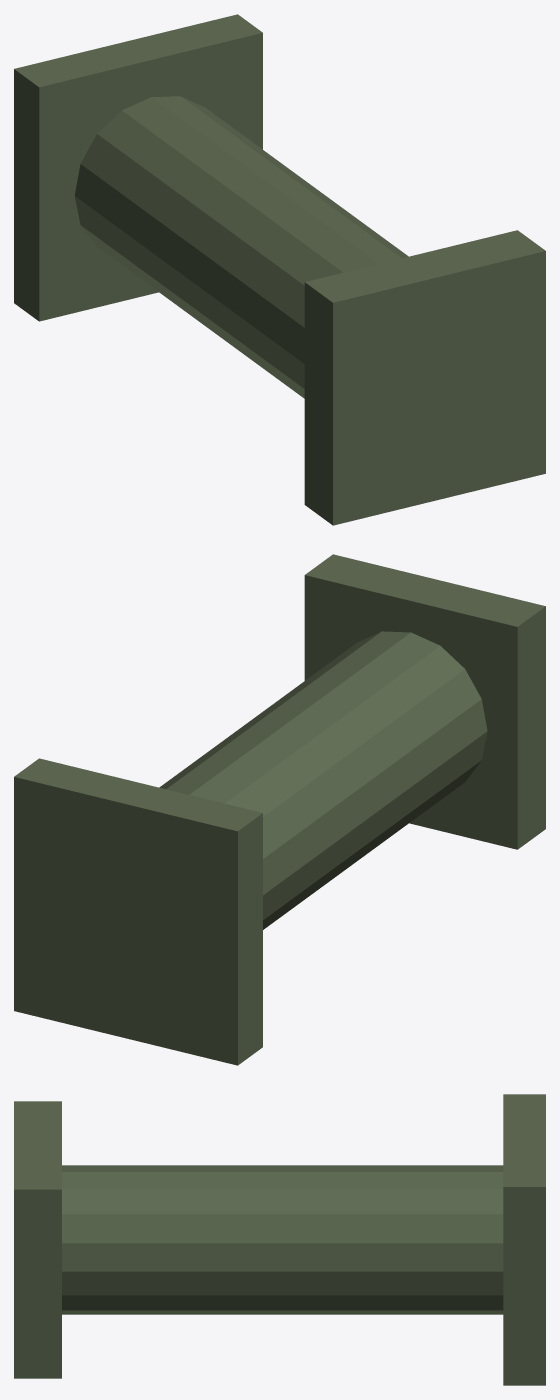
File: SM_RivColumn.obj
3 views of the same model, one above another, from view 1: azimuth 30°, elevation 25°; view 2: azimuth 150°, elevation 25°; view 3: azimuth 270°, elevation 25° (orthographic). The views are drawn at different scales.
Visible parts, largest first — view 1: SM_RivColumn; view 2: SM_RivColumn; view 3: SM_RivColumn.
Part boxes in pixels (<box>): SM_RivColumn: <box>14,14,545,525</box>; SM_RivColumn: <box>14,554,545,1065</box>; SM_RivColumn: <box>14,1094,545,1385</box>.
Size of the model in its own units: 82 by 82 by 199.
